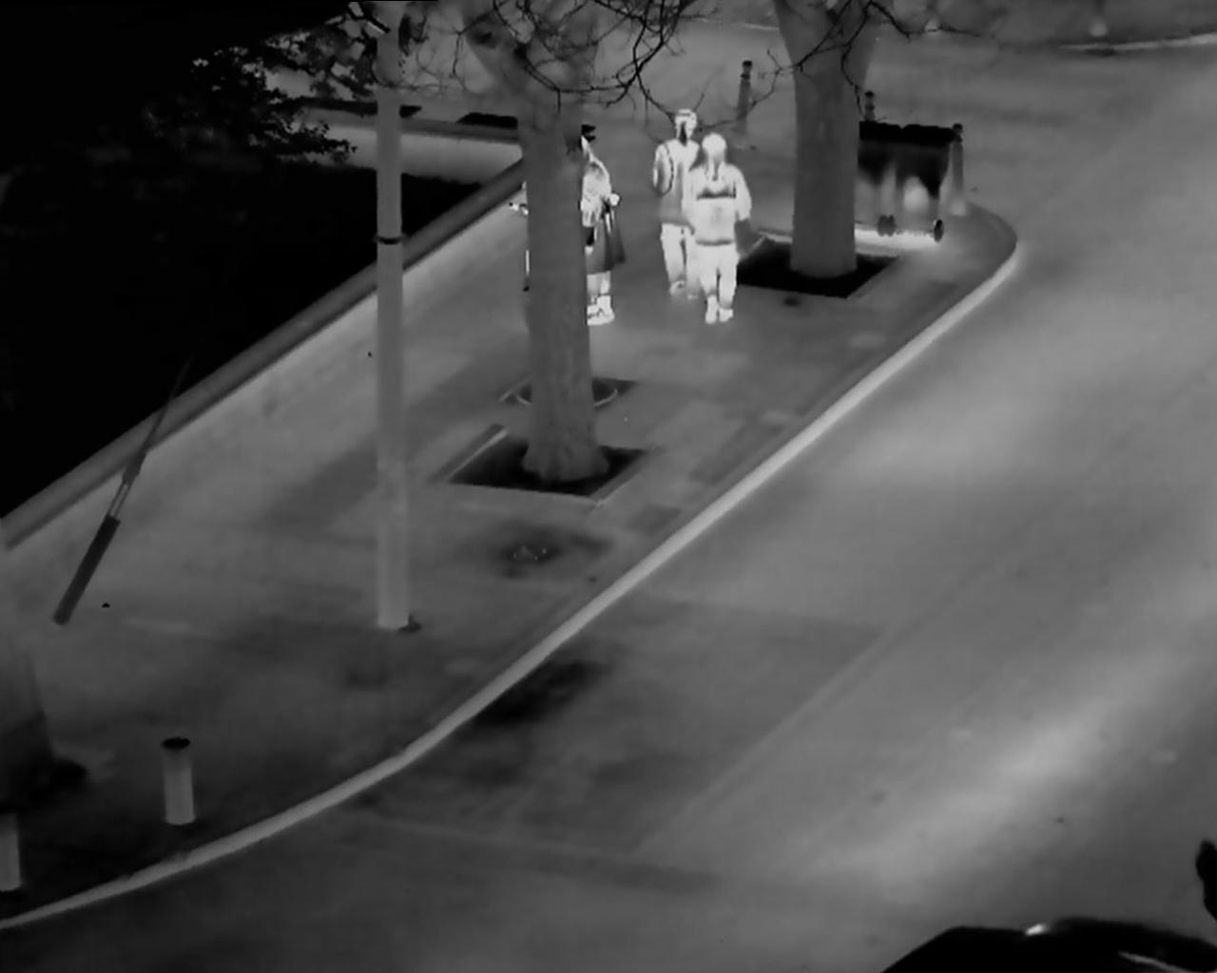person: (567, 123, 641, 371), (688, 132, 758, 327), (654, 101, 706, 299)
